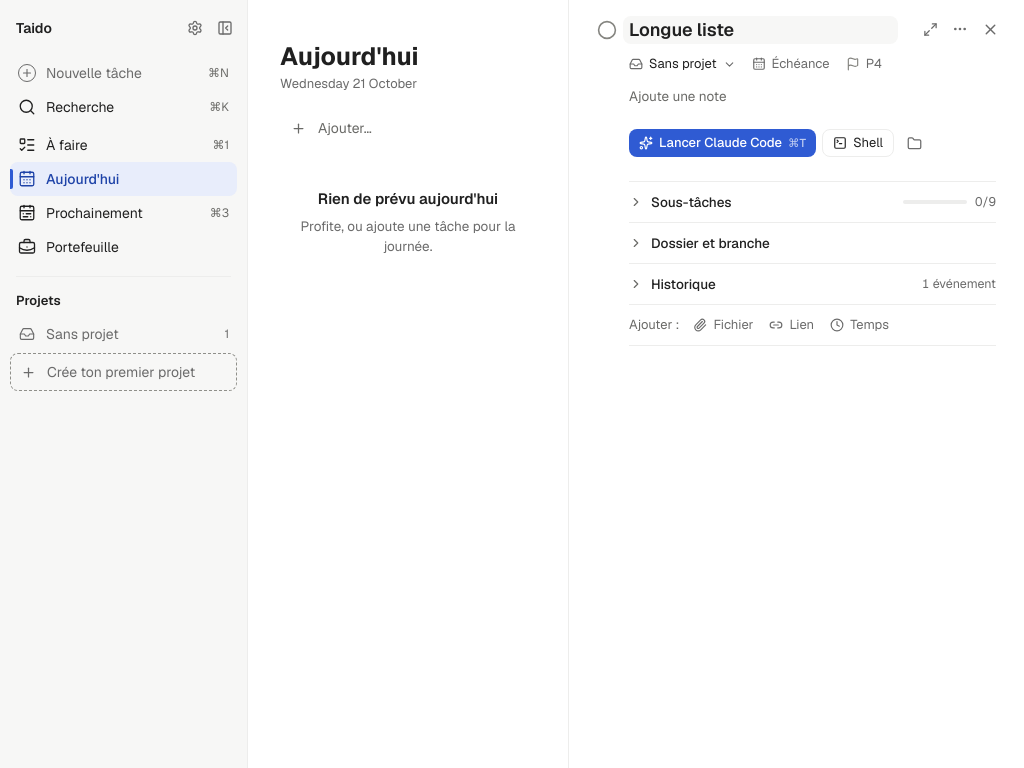
Test: task panel, layout C › folds a long subtask list and remembers what the user opened
Expected: the text box named "Titre de la tâche" is shown, 623,16 -> 898,44
Click the button "Sous-tâches 0/9" at (691, 202), box 629,182 -> 996,222
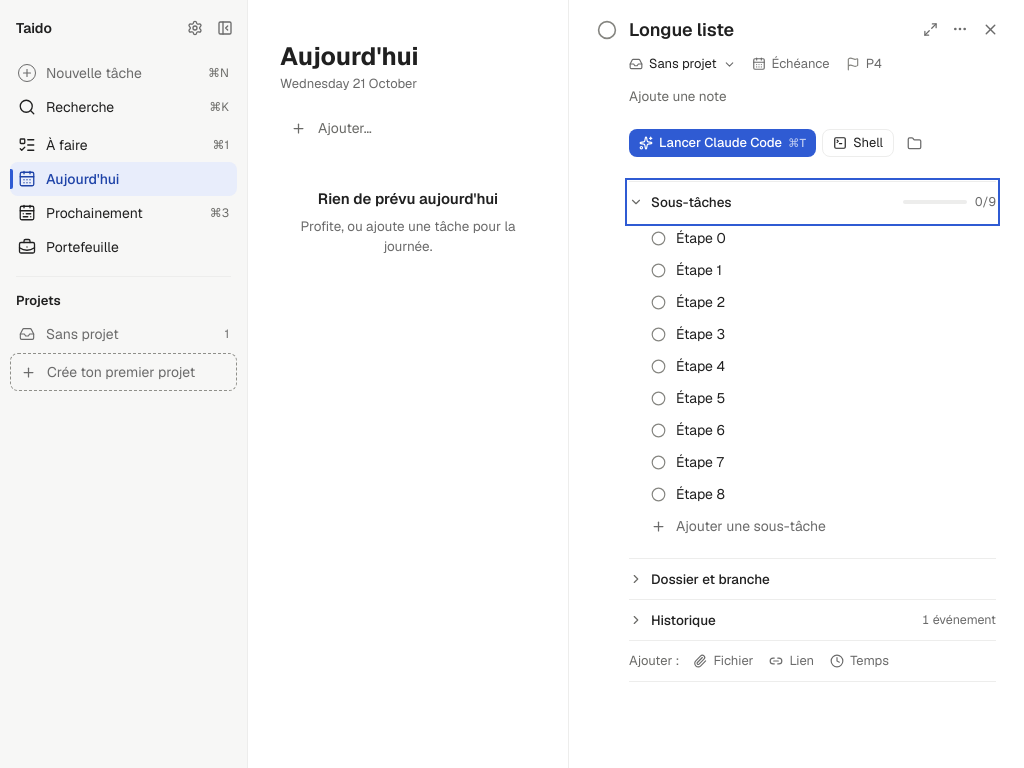
Now the number of checkboxes is 9
